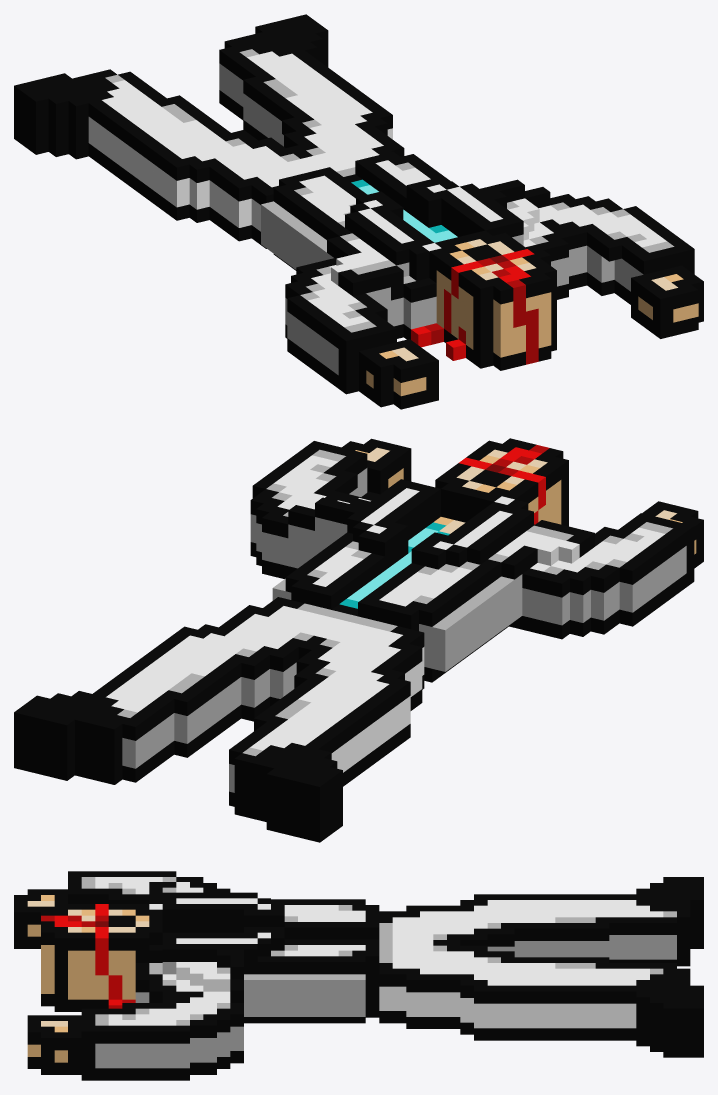
File: EnemyBluntKill1.obj
The picture shows the model from 3 angles, top to bottom: view 1: azimuth 30°, elevation 25°; view 2: azimuth 150°, elevation 25°; view 3: azimuth 270°, elevation 25°; orthographic projection. The views are drawn at different scales.
Visible parts, largest first — view 1: EnemyBluntKill1; view 2: EnemyBluntKill1; view 3: EnemyBluntKill1.
Boxes of the visible parts, bbox=[...] form: EnemyBluntKill1: bbox=[14, 14, 703, 409]; EnemyBluntKill1: bbox=[14, 438, 703, 842]; EnemyBluntKill1: bbox=[14, 871, 703, 1080].
Size of the model in its own units: 2.8 by 0.6 by 5.1.
Materials: 1 (1 with a texture image).
